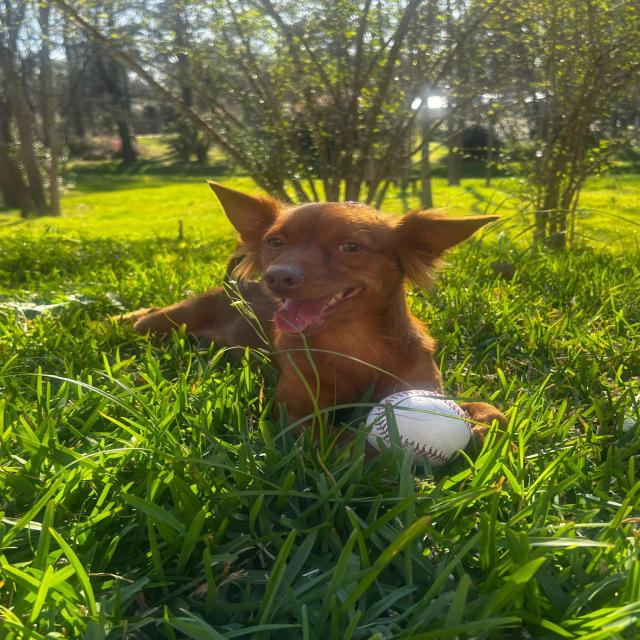chihuahua_dog: (175, 168, 504, 352)
